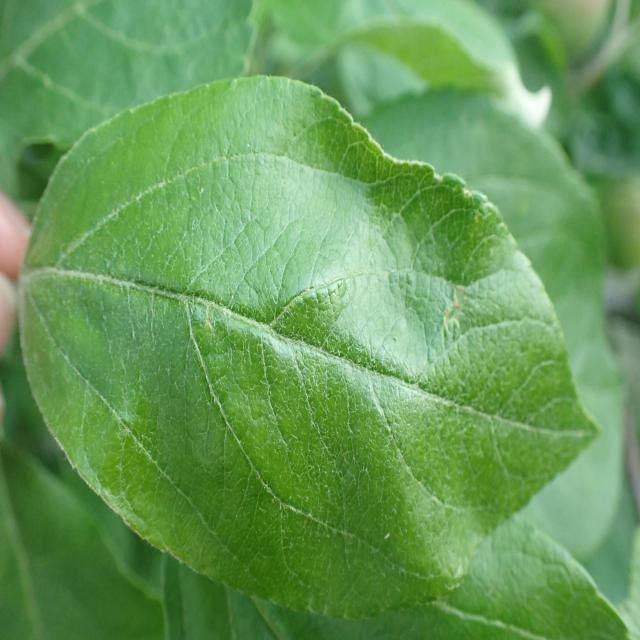healthy: (17, 73, 603, 620), (230, 516, 632, 640), (0, 0, 257, 154)
